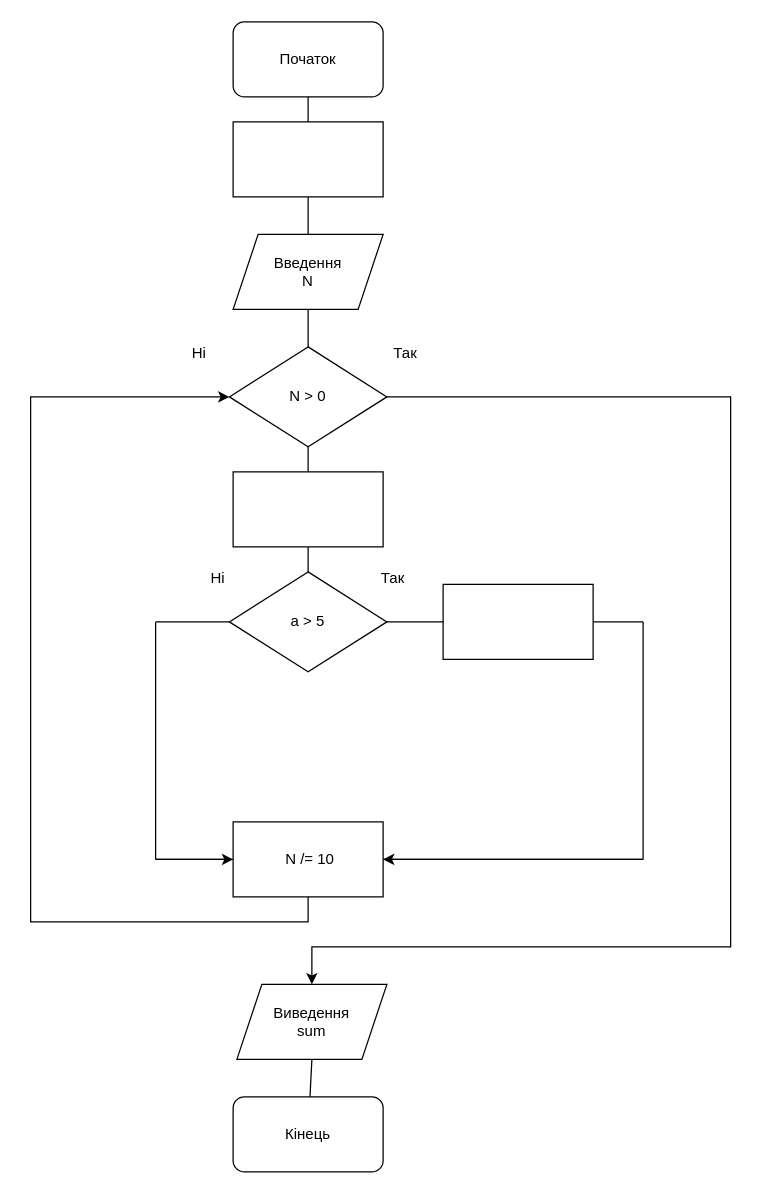
This 763x1194 diagram has some shape labels left out. The shapes that lost their labels are listed below. From the top down, each one's box as (x1, y1, x2, y2) in pixels, then its label:
(232, 121, 383, 197): sum = 0;
(232, 471, 383, 547): a = N %10
(442, 583, 593, 659): sum += a
